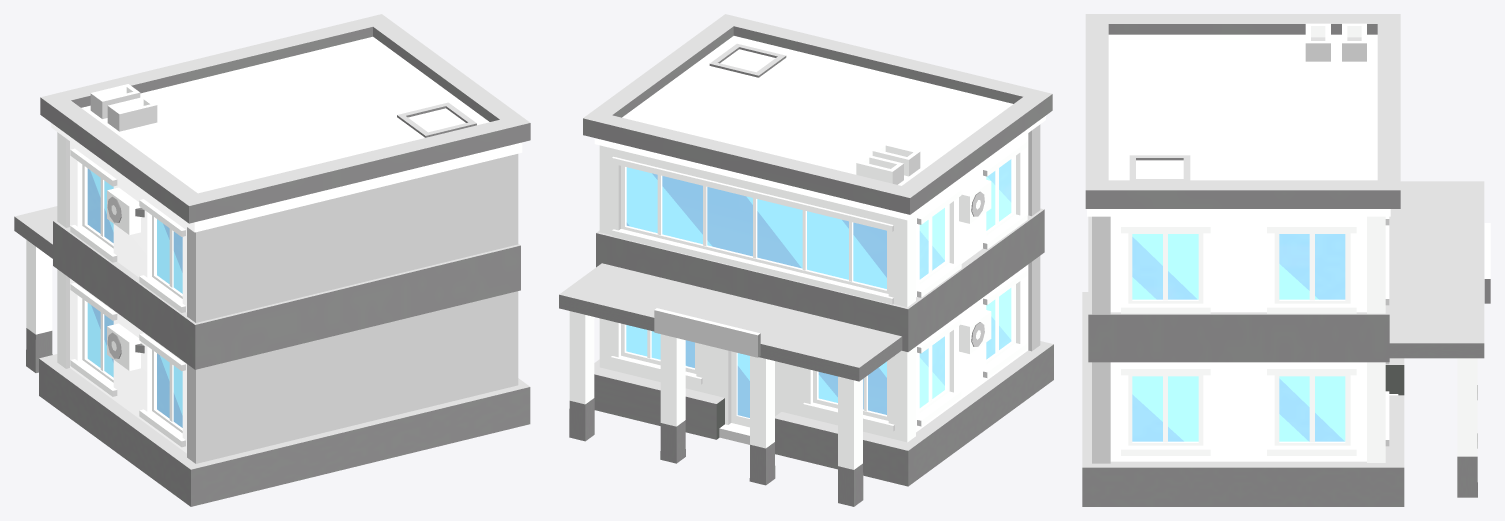
File: bank.004.glb
The picture shows the model from 3 angles, left to right: view 1: azimuth 30°, elevation 25°; view 2: azimuth 150°, elevation 25°; view 3: azimuth 270°, elevation 25°; orthographic projection. The views are drawn at different scales.
Visible parts, largest first — view 1: bank.004(Clone); view 2: bank.004(Clone); view 3: bank.004(Clone).
Part boxes in pixels (<box>): bank.004(Clone): <box>14,14,530,506</box>; bank.004(Clone): <box>559,14,1053,506</box>; bank.004(Clone): <box>1082,14,1490,506</box>.
Bounding box in the file's own units: 7.14 × 6.16 × 6.98.
Materials: 1 (1 with a texture image).
